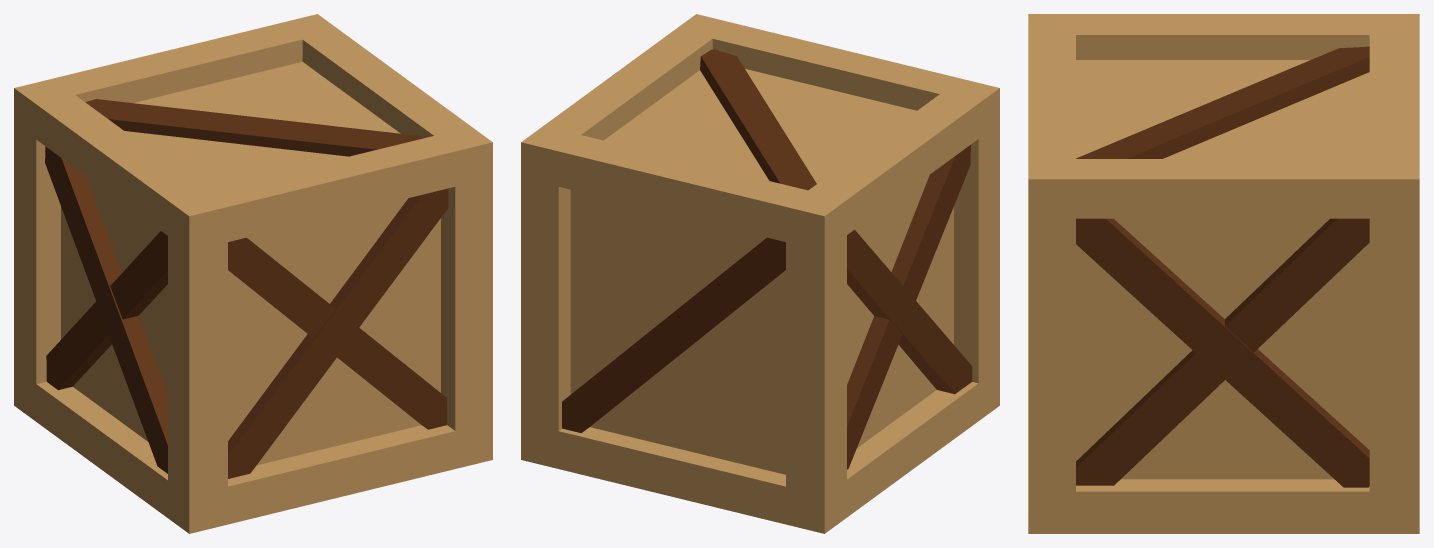
Rendered from Crate.fbx.
3 renders of one model, left to right at view 1: azimuth 30°, elevation 25°; view 2: azimuth 150°, elevation 25°; view 3: azimuth 270°, elevation 25°, orthographic. The views are drawn at different scales.
Parts seen in each view (by area): view 1: Cube, Cube.006; view 2: Cube, Cube.006; view 3: Cube, Cube.006.
Boxes of the visible parts, x1=… form: Cube: x1=14, y1=14, x2=492, y2=533; Cube.006: x1=45, y1=99, x2=448, y2=478; Cube: x1=521, y1=14, x2=999, y2=533; Cube.006: x1=562, y1=49, x2=972, y2=469; Cube: x1=1028, y1=14, x2=1419, y2=533; Cube.006: x1=1076, y1=46, x2=1369, y2=487.
Size of the model in its own units: 579 by 579 by 579.
